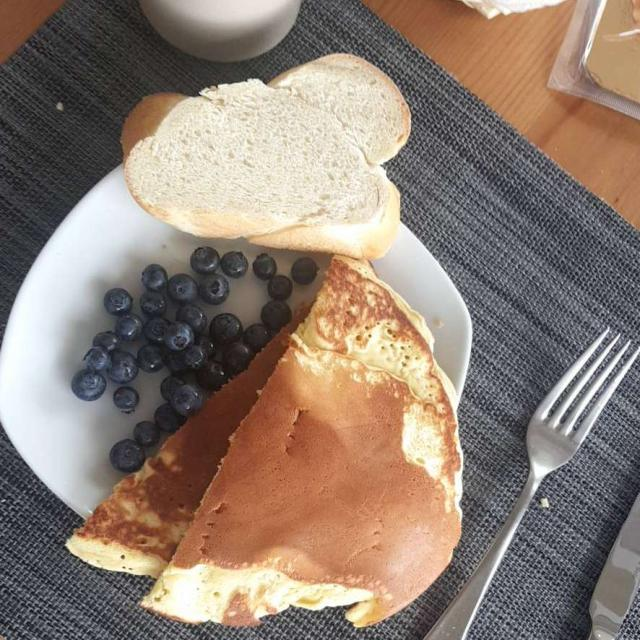blueberries: (67, 250, 315, 459)
braided-white-loaf: (125, 51, 425, 269)
pancakes: (59, 261, 467, 627)
